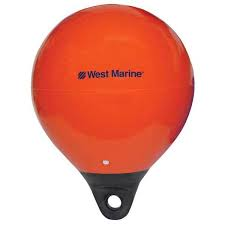buoy: (31, 5, 195, 173)
